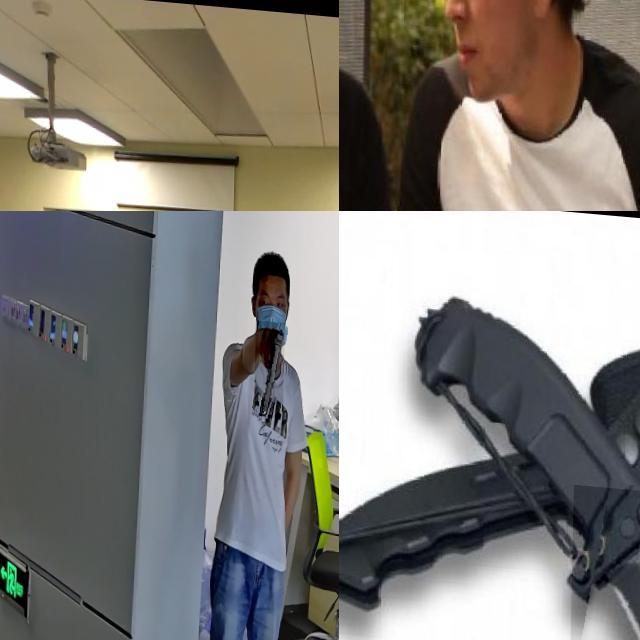gun-knife-thesis - v11 Yolov5 augmented: (256, 314, 286, 412)
